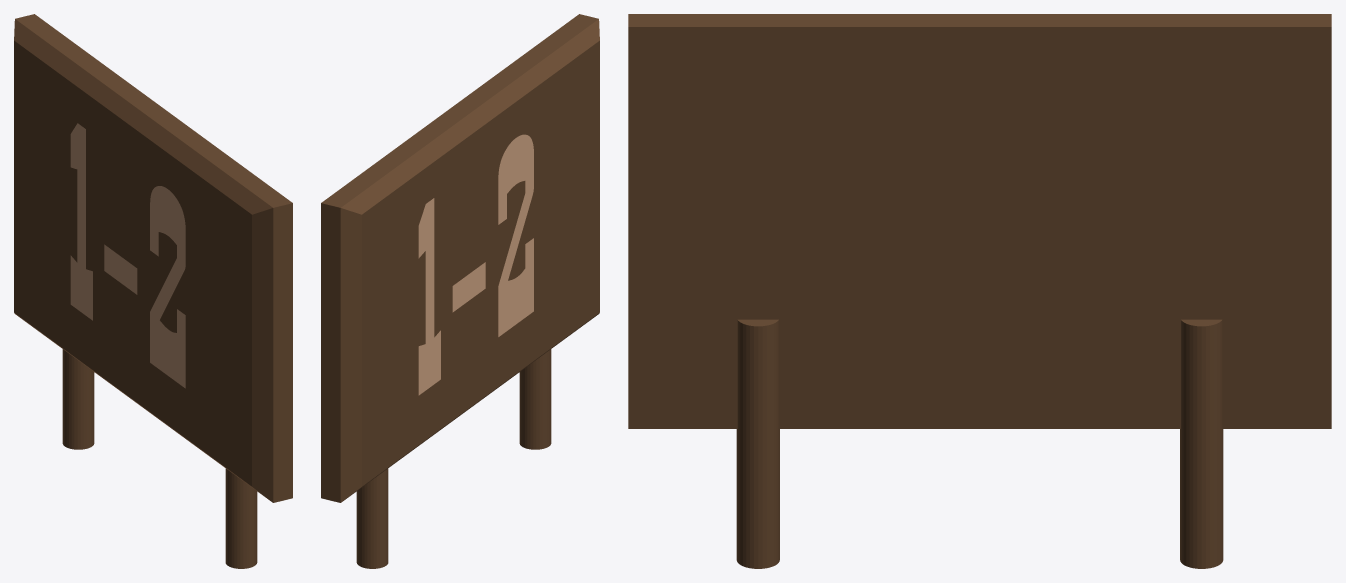
3 renders of one model, left to right at view 1: azimuth 30°, elevation 25°; view 2: azimuth 150°, elevation 25°; view 3: azimuth 270°, elevation 25°, orthographic. The views are drawn at different scales.
Parts seen in each view (by area): view 1: Cube.007, Text, Cylinder, Cylinder.001; view 2: Cube.007, Text, Cylinder.001, Cylinder; view 3: Cube.007, Cylinder, Cylinder.001.
Boxes of the visible parts, x1,y1,x2,y2 form: Cube.007: (14, 14, 292, 502); Text: (70, 123, 185, 388); Cylinder: (62, 349, 94, 449); Cylinder.001: (225, 468, 257, 568); Cube.007: (321, 14, 599, 502); Text: (418, 134, 533, 395); Cylinder.001: (519, 349, 551, 449); Cylinder: (356, 468, 388, 568); Cube.007: (628, 14, 1331, 428); Cylinder: (1180, 319, 1223, 568); Cylinder.001: (736, 319, 779, 568).
Size of the model in its own units: 28.97 by 266 by 317.
